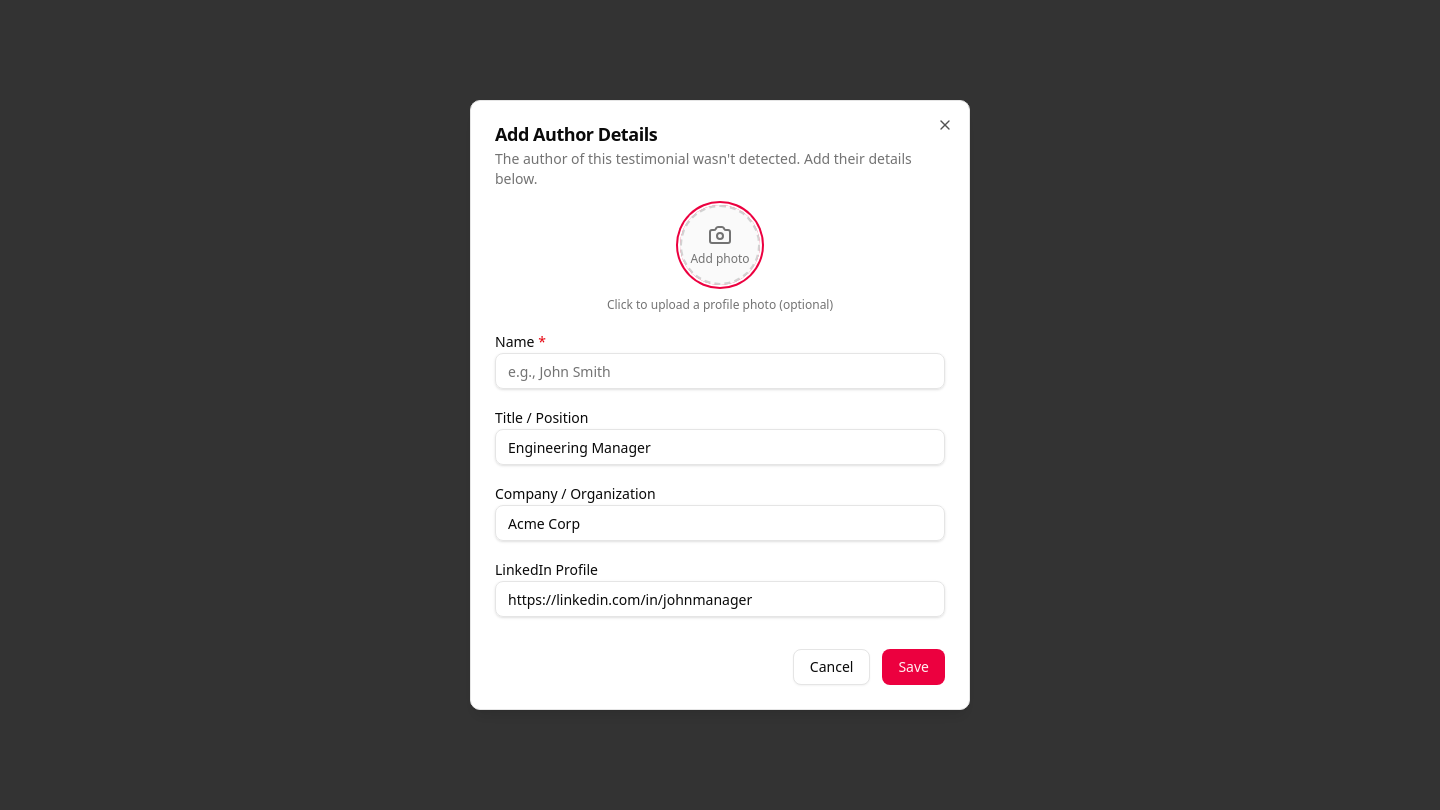
Test: AuthorEditModal › Validation › clears error when user starts typing
The width and height of the screenshot is (1440, 810).
// Trigger validation error
Click the button "Save" at x=914, y=667, box [882,649,945,685]
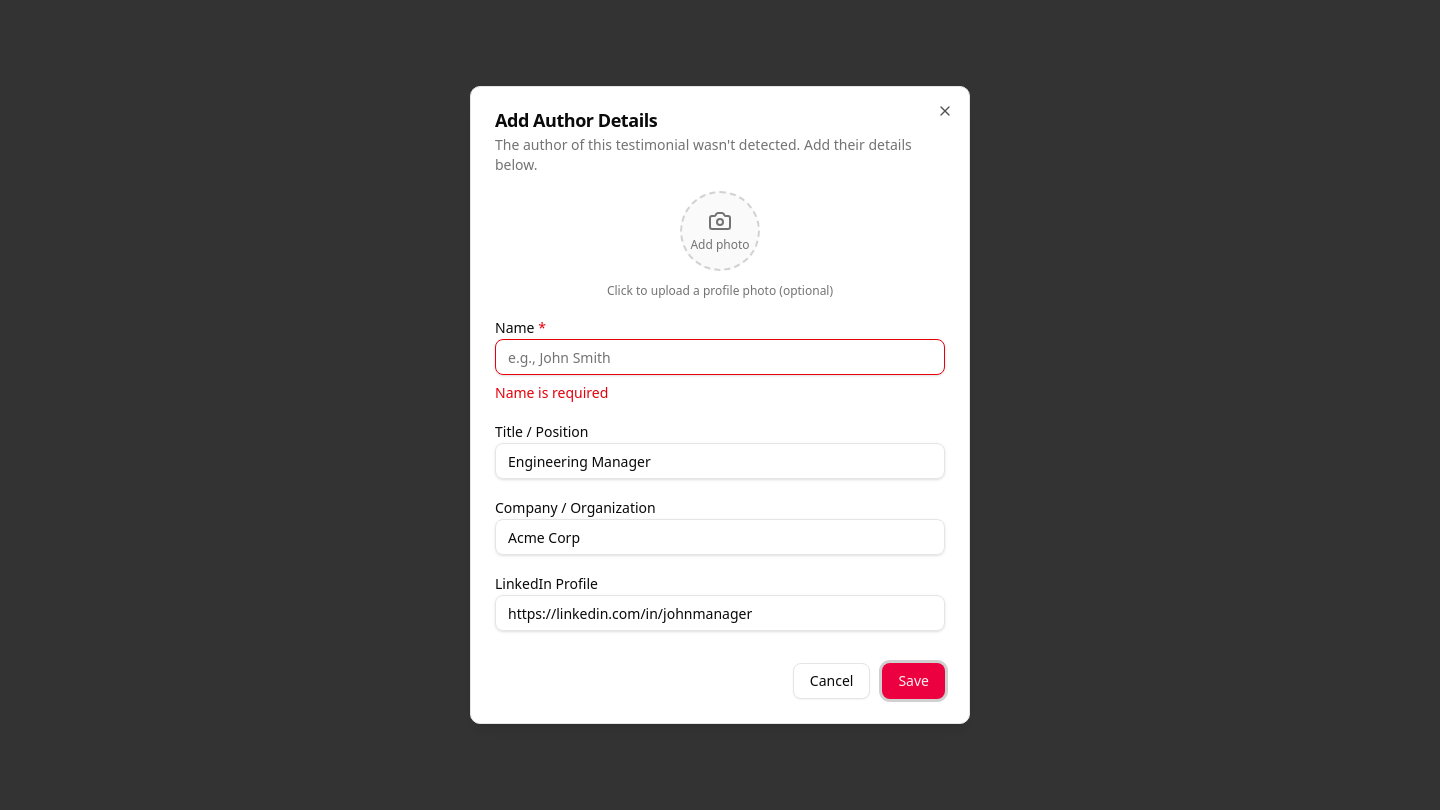
Expected: the text "Name is required" is shown, [495,383,608,402]
// Start typing
Type "J" into the field labelled "Name *" at x=720, y=357, box [495,339,945,375]
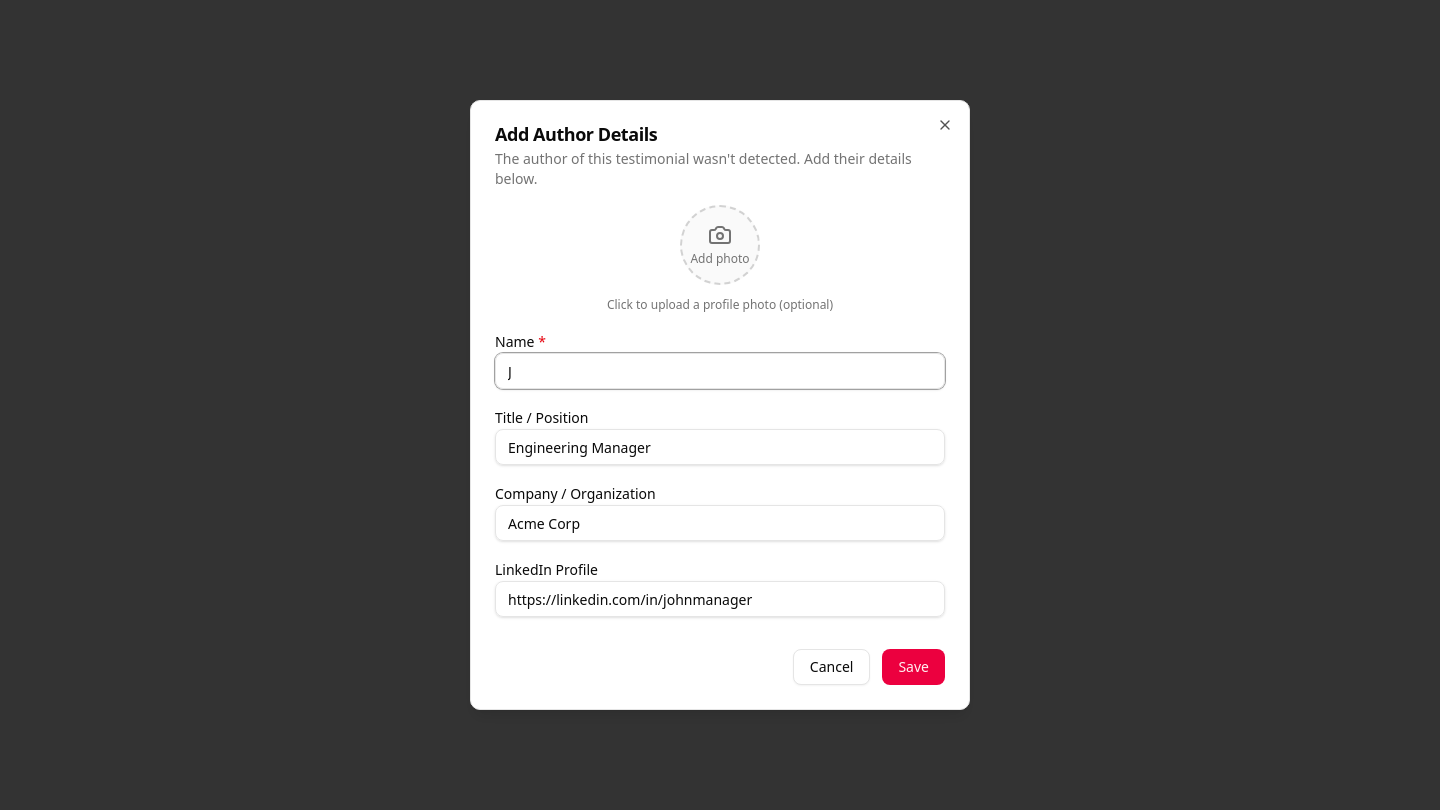
Expected: the text "Name is required" is gone
